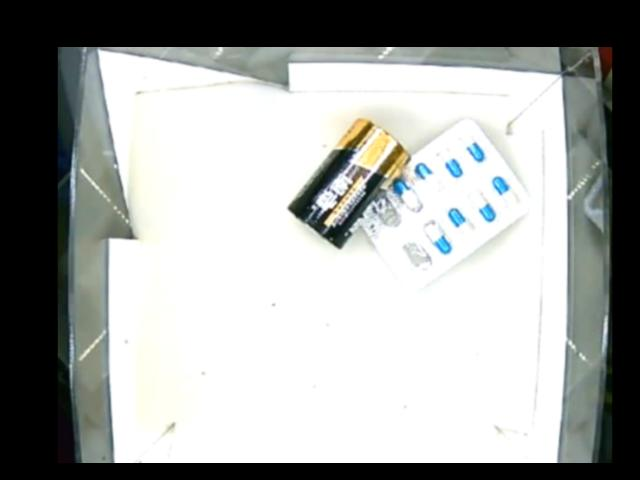Battery: (285, 118, 407, 252)
Medicine: (355, 117, 528, 290)
